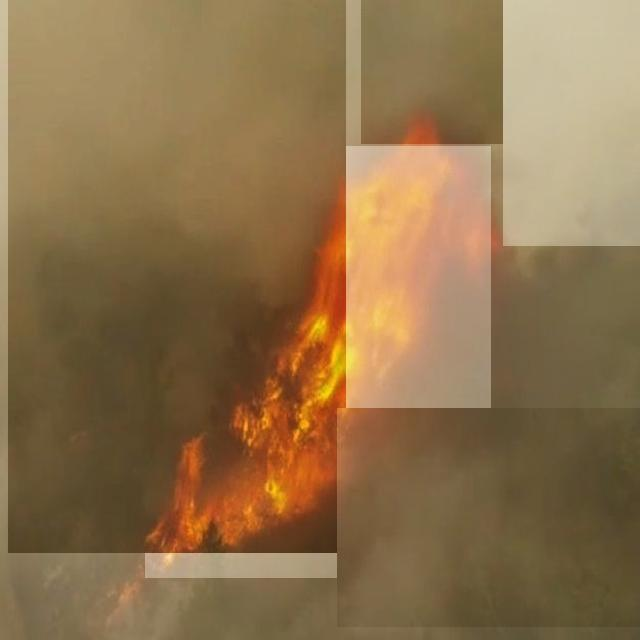Fire: (146, 146, 492, 578)
Smoke: (8, 0, 346, 553), (337, 408, 640, 627), (503, 0, 640, 246), (361, 0, 503, 144)
